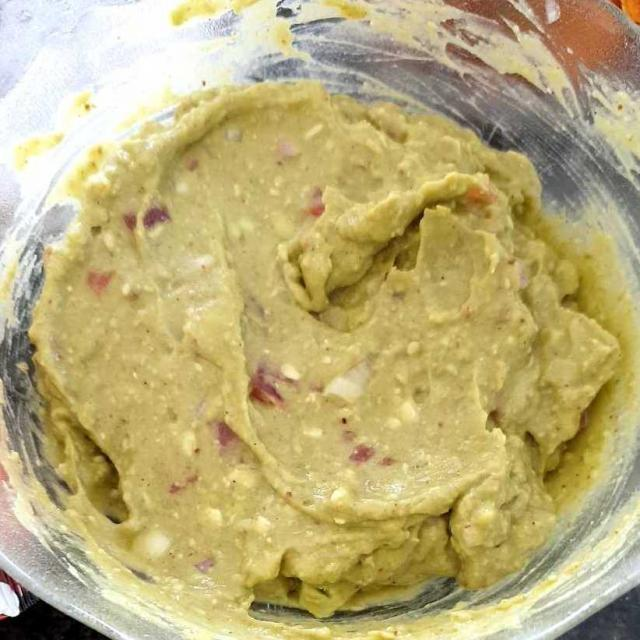guacamole: (28, 85, 620, 611)
